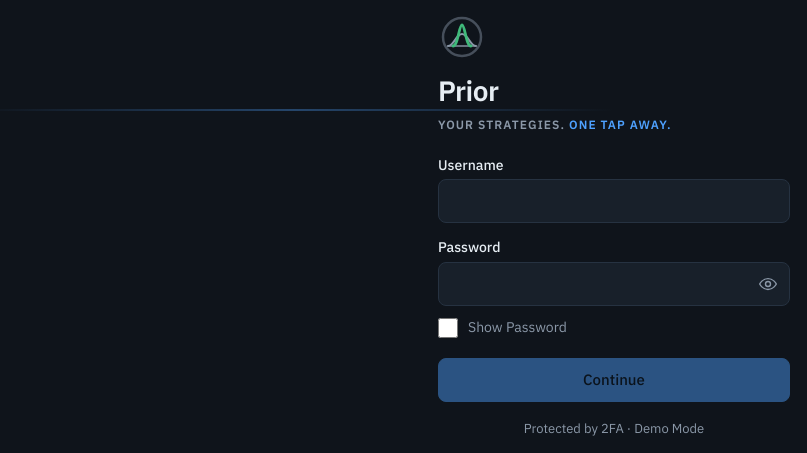
Scenario: login: Show Password (item 20) › keeps a real type=password field that the checkbox toggles to text and back
Type "hunter2" into the password field labelled "Password".
click(614, 284); type("hunter2")  # box left=438, top=262, right=790, bottom=306
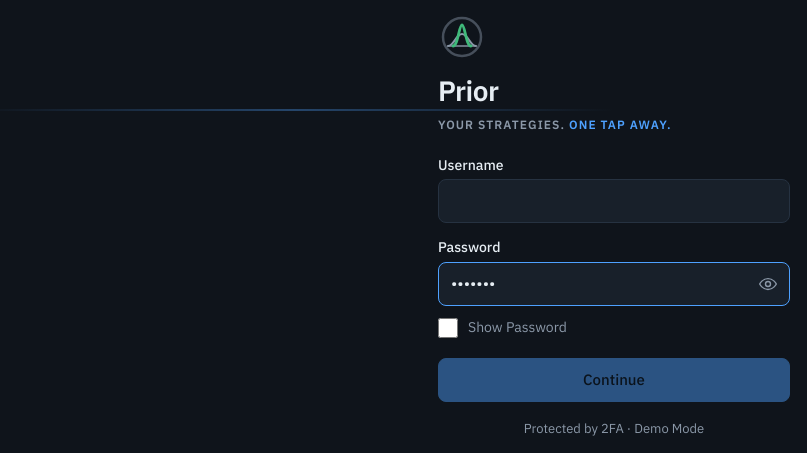
Click the checkbox labelled "Show Password".
click(448, 328)  # box left=438, top=318, right=458, bottom=338
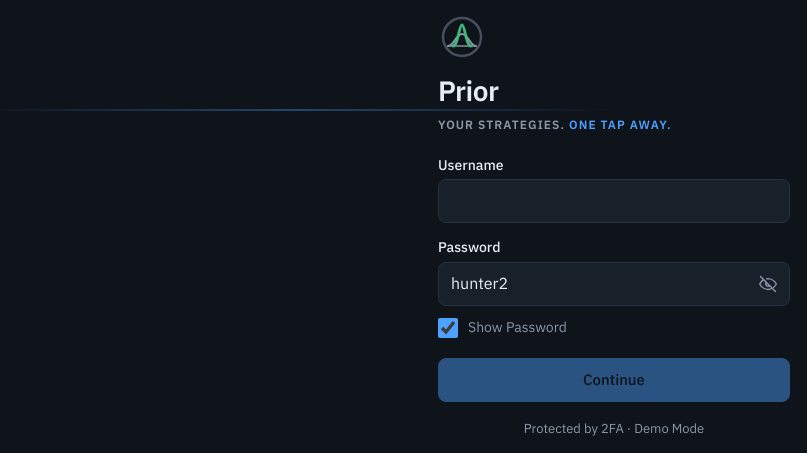
Check: the field labelled "Password" shows its text, box left=438, top=262, right=790, bottom=306
Click the checkbox labelled "Show Password".
click(448, 328)  # box left=438, top=318, right=458, bottom=338
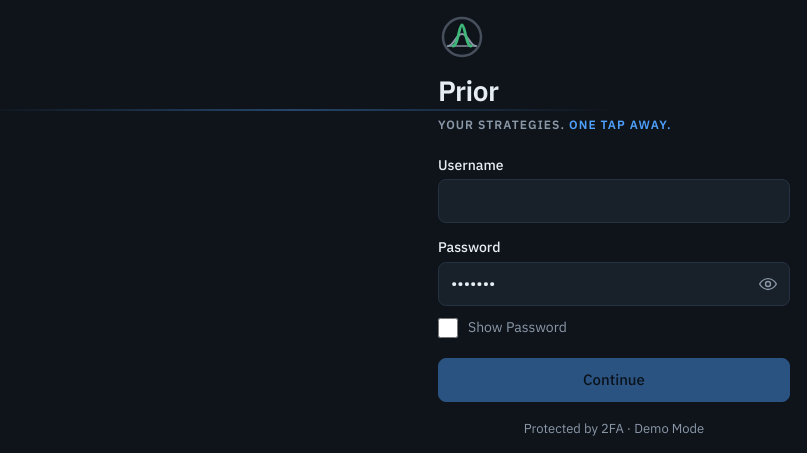
Check: the password field labelled "Password" hides its text, box left=438, top=262, right=790, bottom=306
